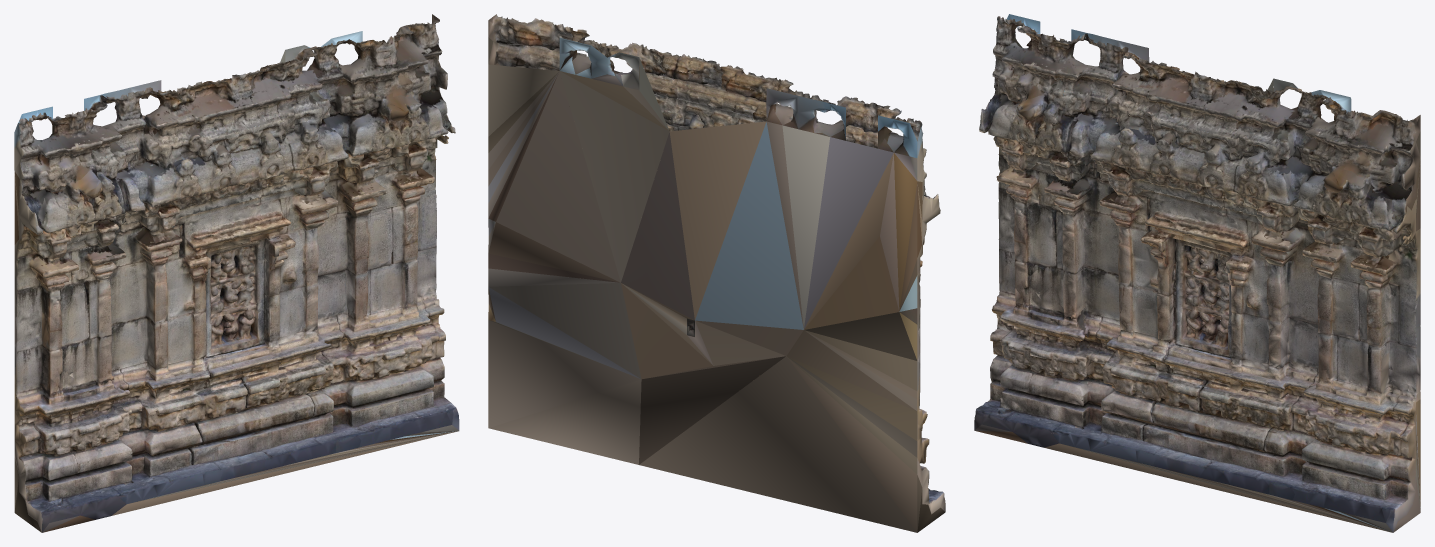
File: wall.glb
3 views of the same model, side by side, from view 1: azimuth 30°, elevation 25°; view 2: azimuth 150°, elevation 25°; view 3: azimuth 330°, elevation 25° (orthographic). The views are drawn at different scales.
Parts seen in each view (by area): view 1: Object_2, Object_3; view 2: Object_3, Object_2; view 3: Object_2, Object_3.
Boxes of the visible parts, left/top/right/bottom form: Object_2: left=14, top=14, right=459, bottom=503; Object_3: left=14, top=50, right=456, bottom=532; Object_3: left=488, top=45, right=945, bottom=532; Object_2: left=488, top=14, right=940, bottom=464; Object_2: left=979, top=14, right=1420, bottom=532; Object_3: left=974, top=18, right=1420, bottom=531.
Bounding box in the file's own units: 26.46 × 24.04 × 3.03.
Materials: 1 (1 with a texture image).
